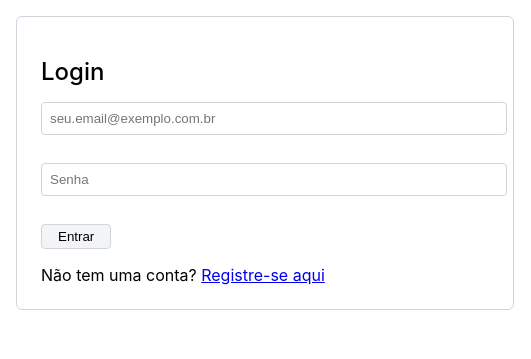
Test: LoginPage Component › shows error message when login fails
The width and height of the screenshot is (531, 359).
Type "wrong@example.com" into the field with placeholder "seu.email@exemplo.com.br".
click(274, 119); type("wrong@example.com")  # box [41,102,507,135]
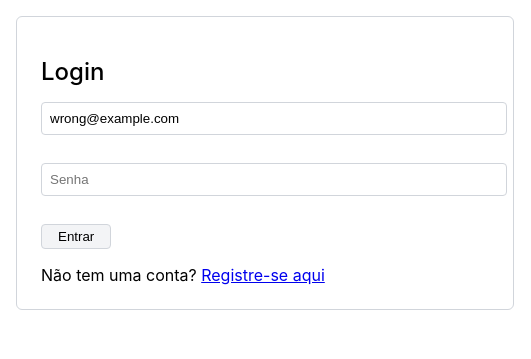
Type "wrongpassword" into the password field with placeholder "Senha".
click(274, 180); type("wrongpassword")  # box [41,163,507,196]
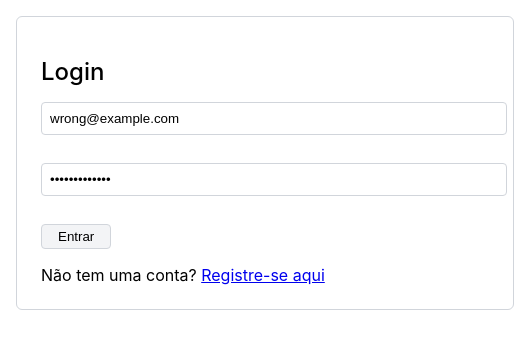
# Submit the form
Click the button "Entrar".
click(76, 237)  # box [41,224,111,249]
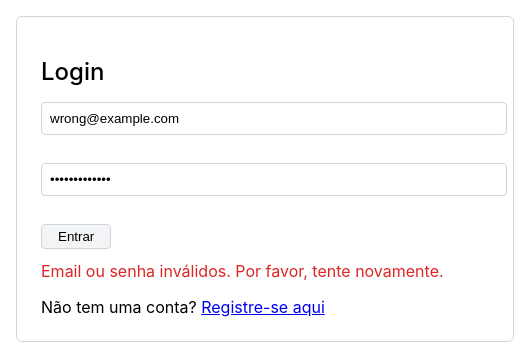
Now the text "Email ou senha inválidos. Por favor, tente novamente." is shown, box [41,261,444,281]
